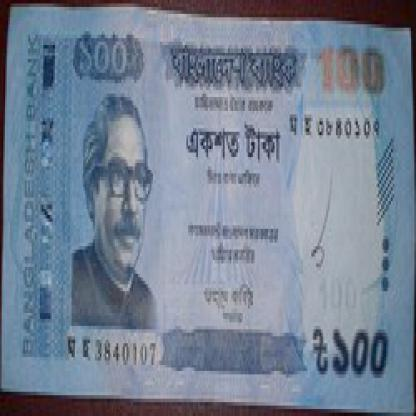one hundred taka: (331, 315, 396, 392), (315, 35, 391, 100), (63, 21, 145, 80)
